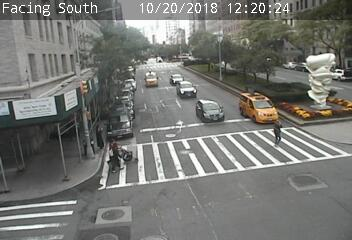car: (239, 91, 278, 124), (196, 99, 224, 123), (176, 80, 197, 98), (144, 70, 158, 87), (170, 73, 184, 85)
